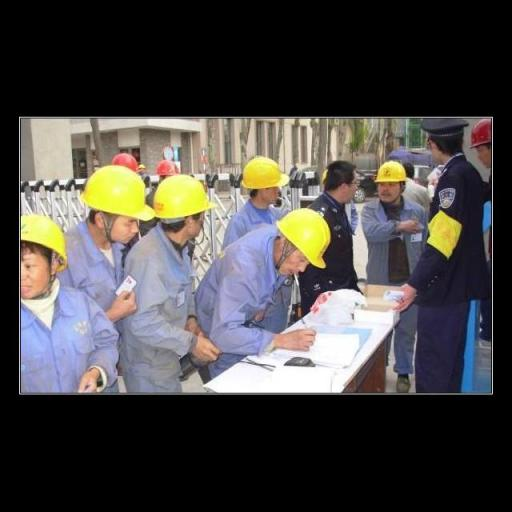Person: (394, 112, 486, 397), (14, 192, 114, 404), (133, 172, 226, 396), (214, 202, 331, 360), (356, 159, 429, 389), (60, 158, 152, 300), (310, 157, 357, 302), (218, 146, 292, 238)
boots: (385, 362, 417, 394)
helmet: (76, 157, 162, 237), (268, 204, 340, 274), (146, 170, 222, 233), (20, 205, 75, 279), (234, 151, 289, 194), (366, 152, 408, 190), (106, 144, 144, 183), (457, 114, 492, 152), (149, 152, 184, 182)
vest: (116, 214, 208, 393), (195, 219, 297, 377), (356, 188, 438, 381), (54, 214, 136, 387), (20, 278, 132, 396), (220, 192, 297, 264)
